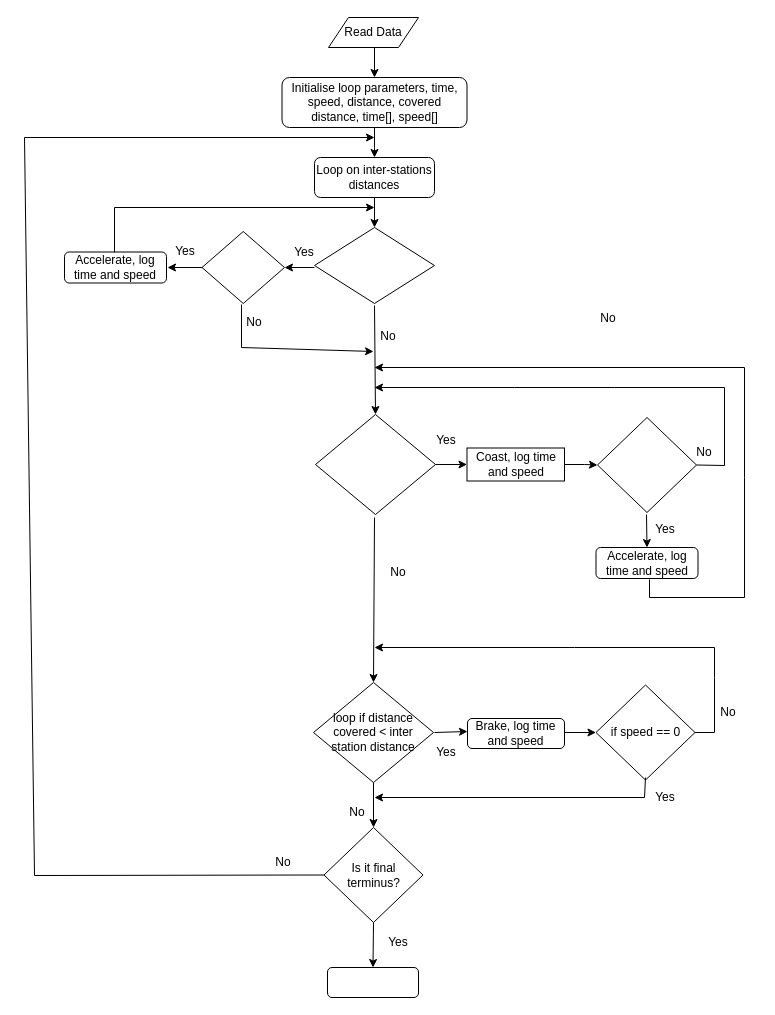
Some shapes in this 775 by 1015 pixel diagram are drawn without their labels. Each missing label, with the centre of its shape:
"if speed < 0.8 * maxm speed" goes at point (646, 464).
"If speed < maxm speed" goes at point (242, 267).
"loop if distance covered < accelerating distance" goes at point (374, 265).
"loop if distance covered < braking point to destination" goes at point (375, 464).
"Plot the logged value" goes at point (372, 982).
